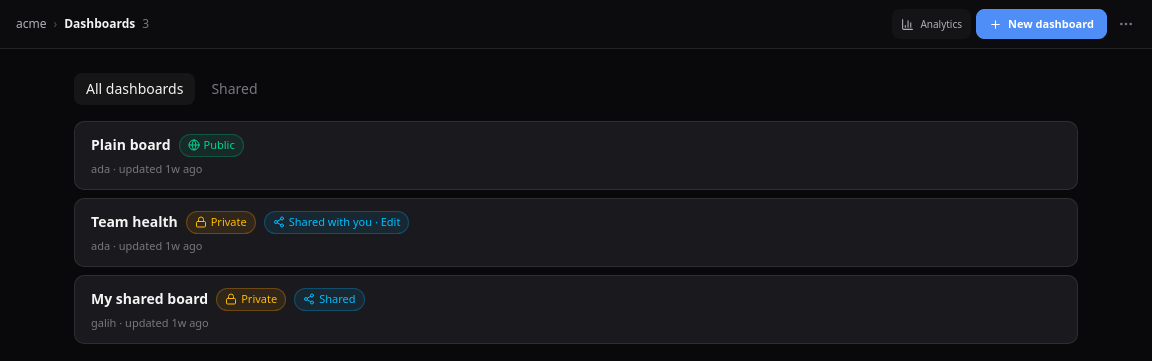
it: Dashboards Shared tab › Shared tab lists inbound shares with my access, plus dashboards I shared out
Expected: the text "Plain board" is shown, [91,135,171,155]
What coordinates should you click on to do the following:
click the tab "Shared"
I would click on:
 (234, 89)
Its box is [199,73,270,105].
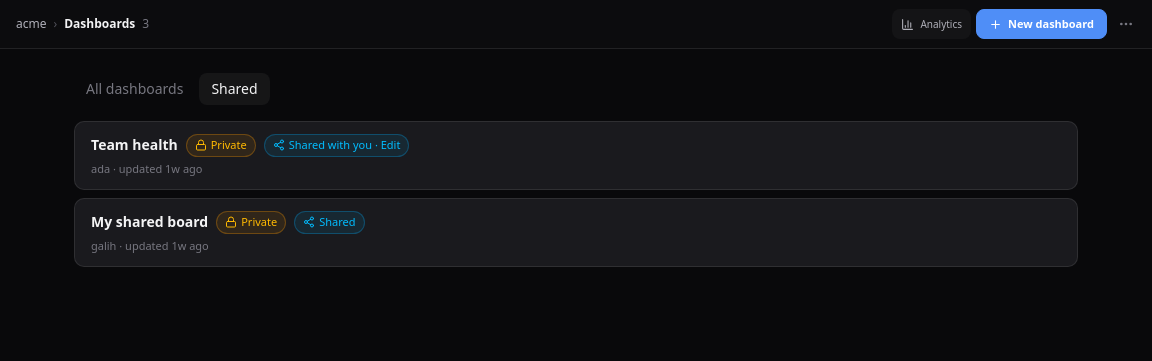
Expected: the text "Team health" is shown, [91,135,178,155]
Expected: the button "Plain board" is gone
